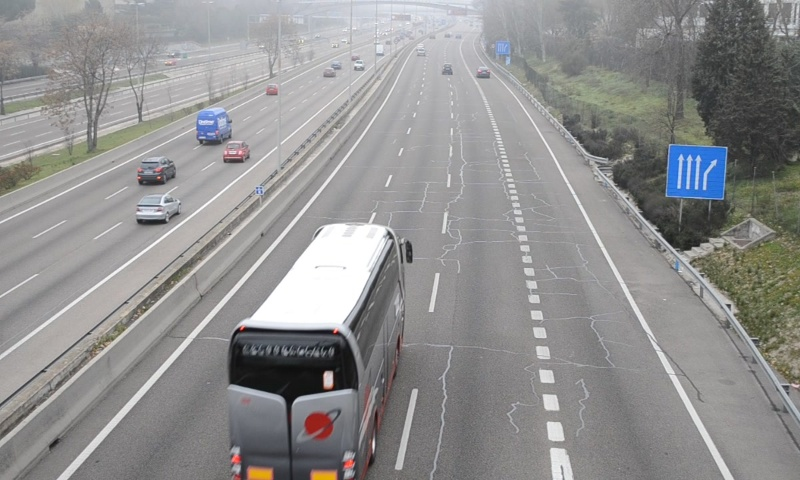bus: (227, 223, 407, 480)
car: (476, 66, 491, 79), (441, 62, 454, 76)
